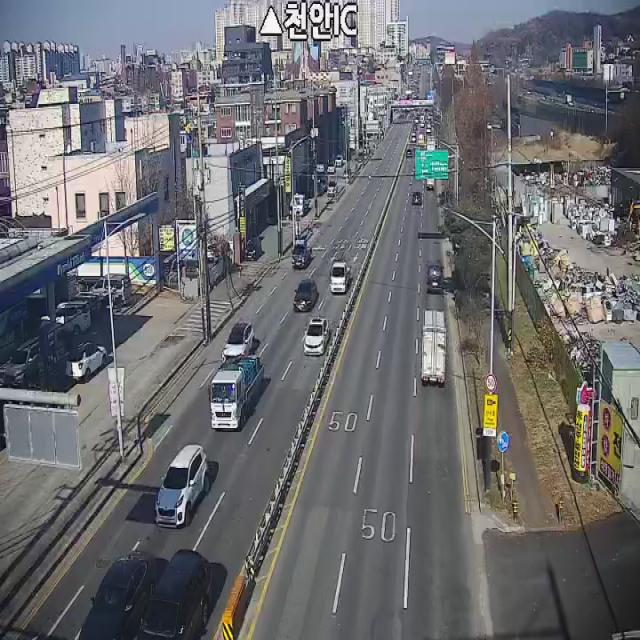Car: (79, 551, 154, 640), (141, 548, 213, 638), (156, 445, 210, 528), (65, 343, 108, 383), (222, 324, 256, 365), (90, 274, 132, 306), (304, 317, 329, 356), (294, 278, 318, 312), (330, 262, 351, 294), (426, 258, 444, 294), (245, 237, 262, 260), (314, 160, 327, 173), (327, 181, 338, 196), (412, 192, 422, 206), (335, 154, 344, 167), (328, 162, 336, 174)
Truck: (212, 358, 264, 432), (422, 309, 448, 386), (291, 240, 312, 268)
